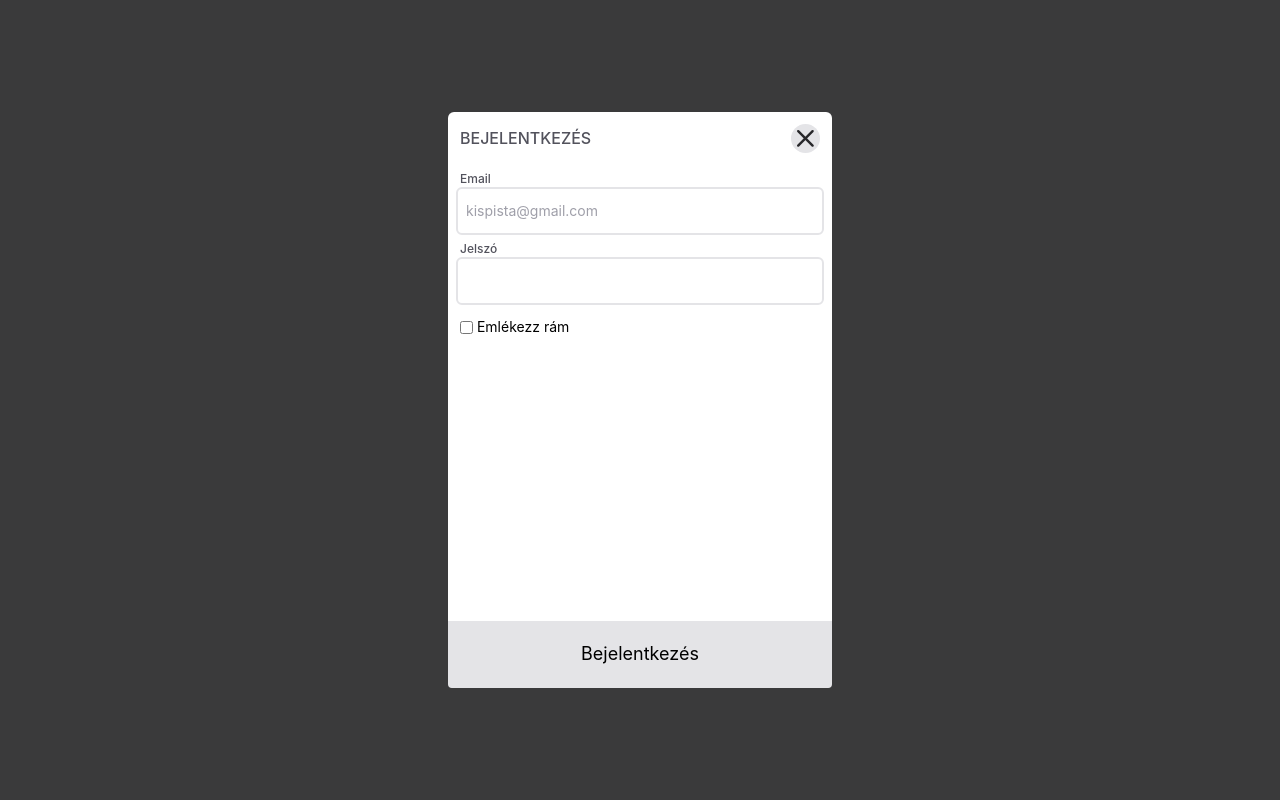
Login component › should display network/repository error when form sending errors out
In the field with id "email": {"x": 640, "y": 211} [458,189,822,233], type "tesztelek@gmail.com"
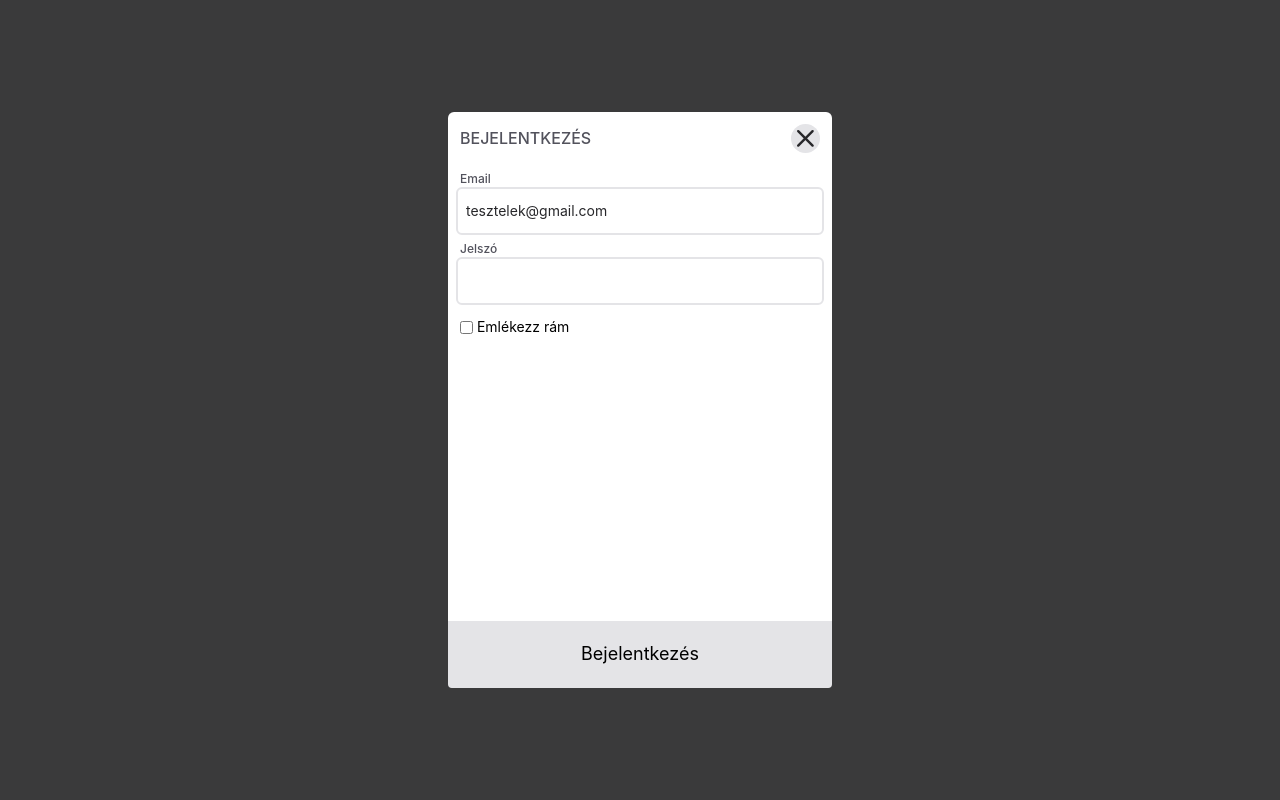
In the password field: {"x": 640, "y": 281} [458,259,822,303], type "password123"
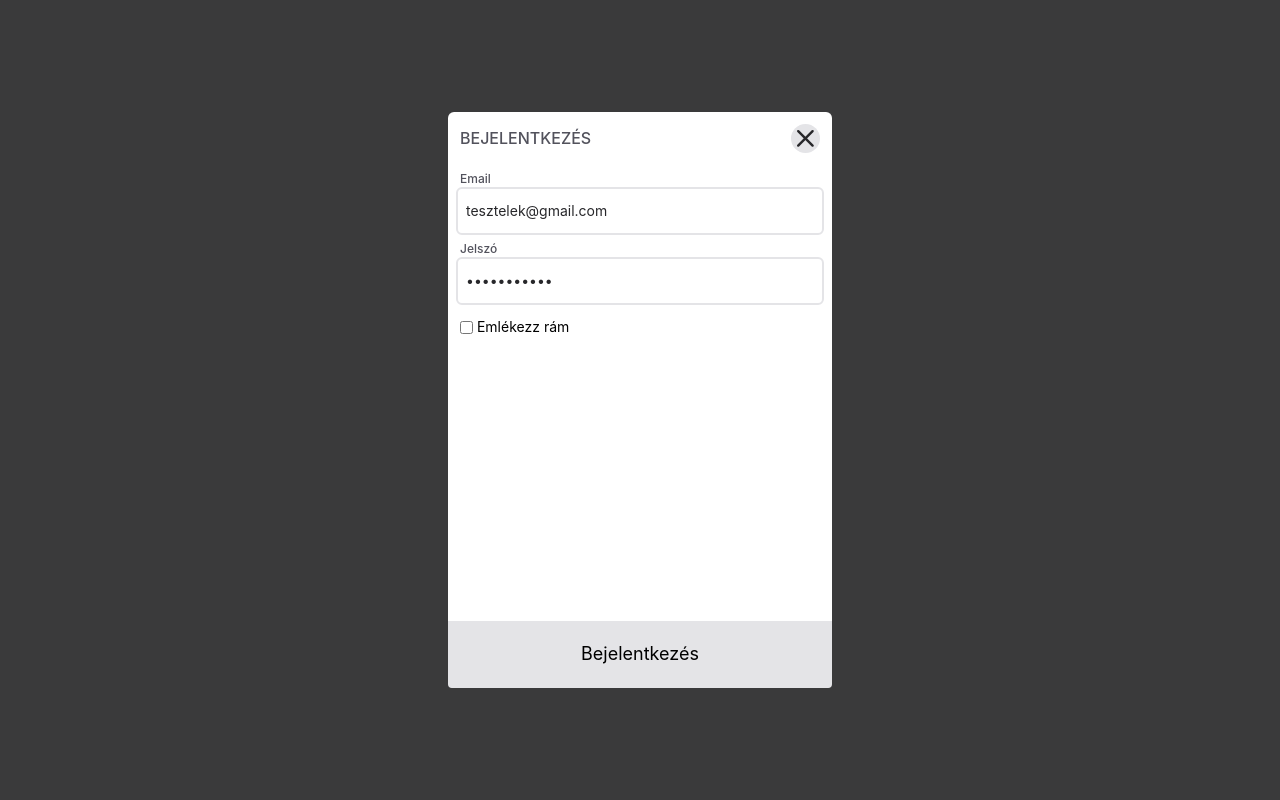
Click the button with id "submit": {"x": 640, "y": 654} [448,621,832,688]
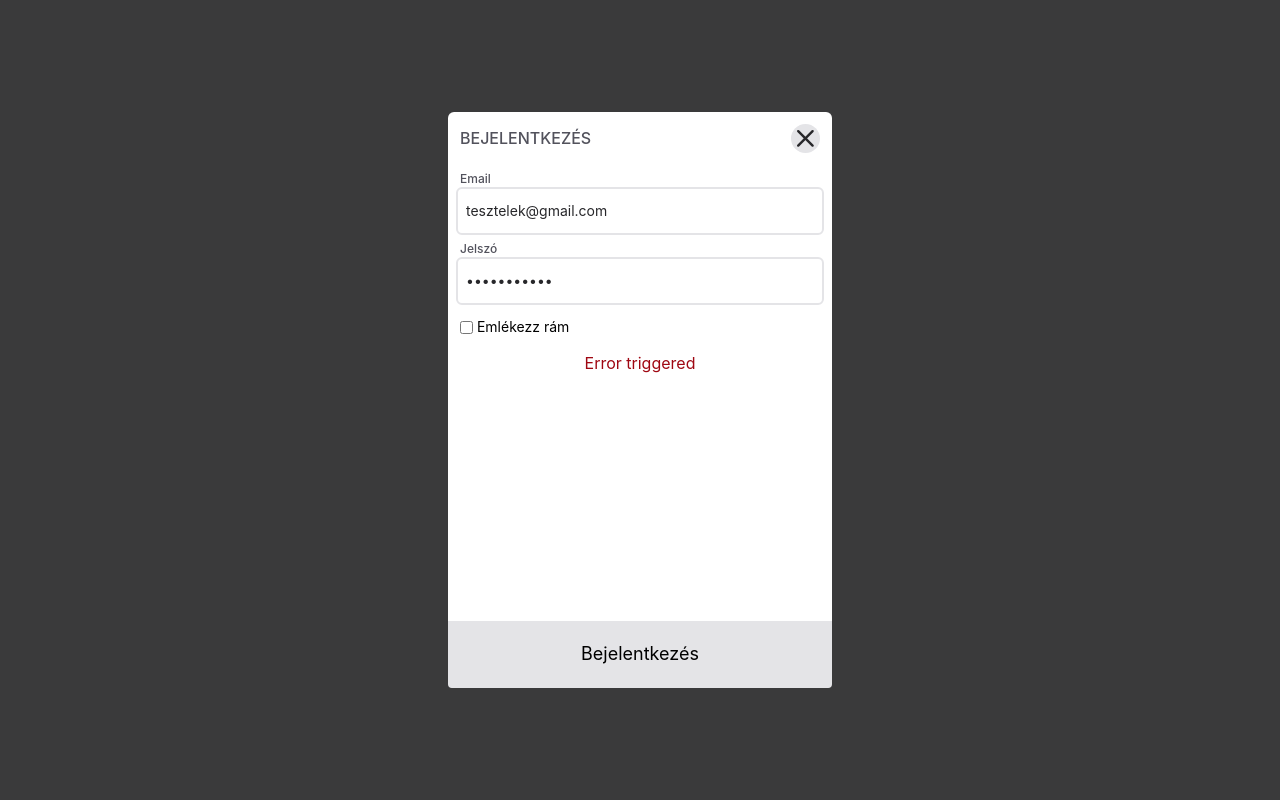
expect the text "Error triggered" is shown: met, box [584,353,695,373]
